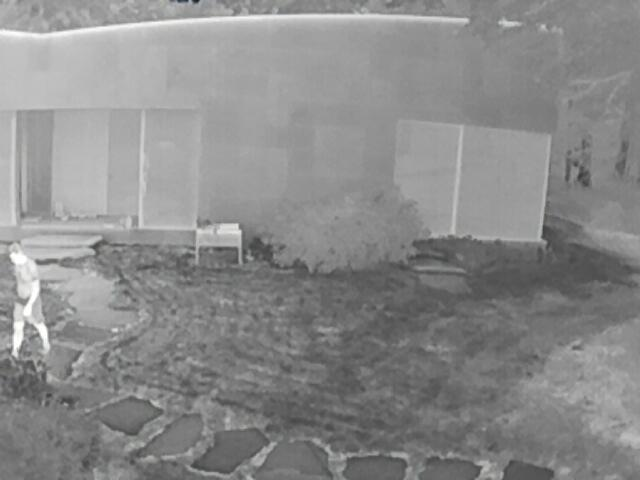person: (7, 241, 52, 364)
